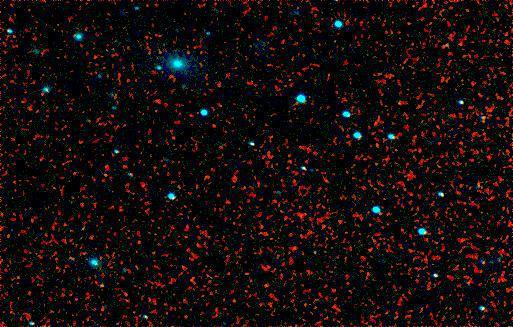star: (91, 161, 121, 191)
